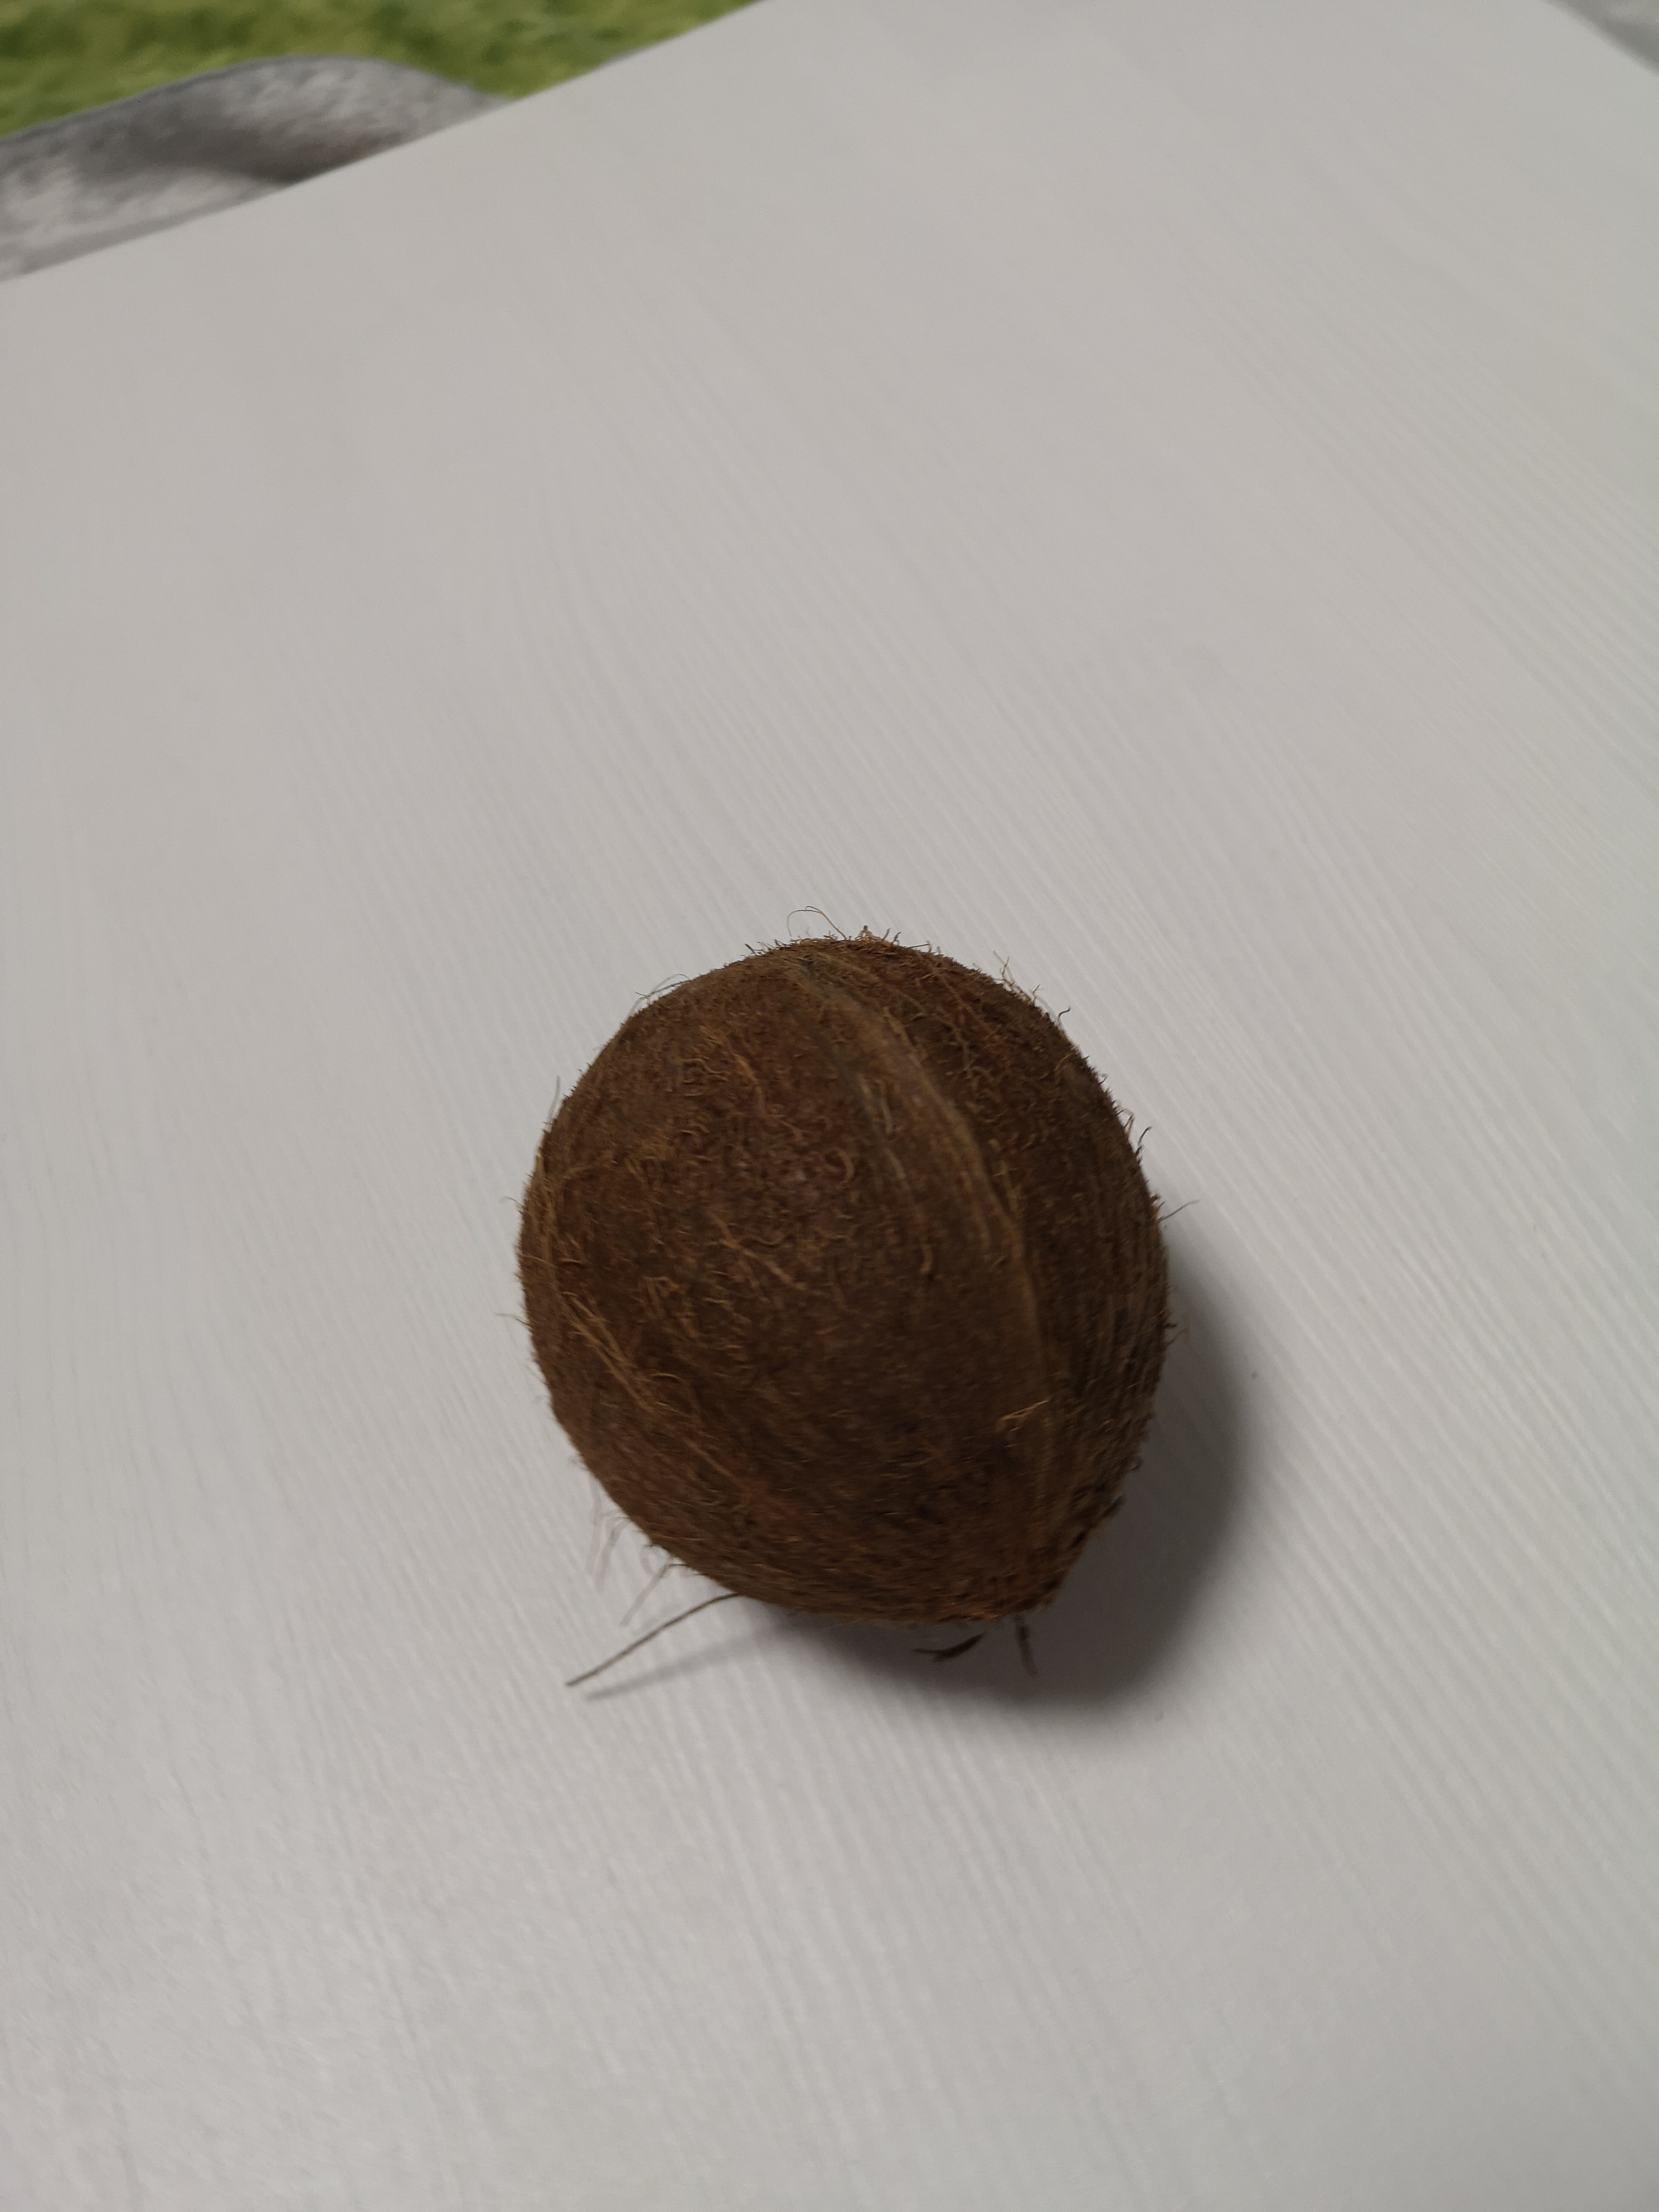coconut: (511, 927, 1190, 1644)
